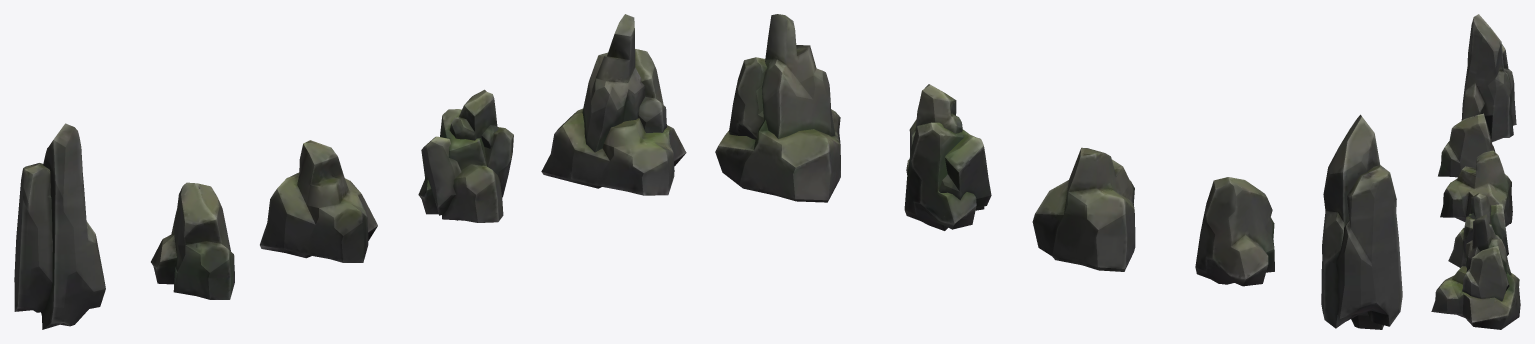
Rendered from rocks.glb.
3 views of the same model, side by side, from view 1: azimuth 30°, elevation 25°; view 2: azimuth 150°, elevation 25°; view 3: azimuth 270°, elevation 25° (orthographic). The views are drawn at different scales.
Visible parts, largest first — view 1: Rock_5, Rock_4, Rock_2, Rock_3, Rock_1; view 2: Rock_5, Rock_4, Rock_2, Rock_3, Rock_1; view 3: Rock_5, Rock_4, Rock_2, Rock_1, Rock_3.
Part boxes in pixels (<box>): Rock_5: <box>541,14,686,195</box>; Rock_4: <box>14,123,105,329</box>; Rock_2: <box>260,140,377,262</box>; Rock_3: <box>418,89,513,222</box>; Rock_1: <box>151,182,234,299</box>; Rock_5: <box>715,14,840,202</box>; Rock_4: <box>1321,114,1402,329</box>; Rock_2: <box>1032,147,1135,271</box>; Rock_3: <box>904,84,991,230</box>; Rock_1: <box>1195,177,1274,286</box>; Rock_5: <box>1431,214,1520,329</box>; Rock_4: <box>1461,14,1516,142</box>; Rock_2: <box>1440,150,1512,226</box>; Rock_1: <box>1438,113,1495,177</box>; Rock_3: <box>1448,193,1508,267</box>.
Size of the model in its own units: 7.28 by 2.15 by 1.32.
1 material, 1 textured.
